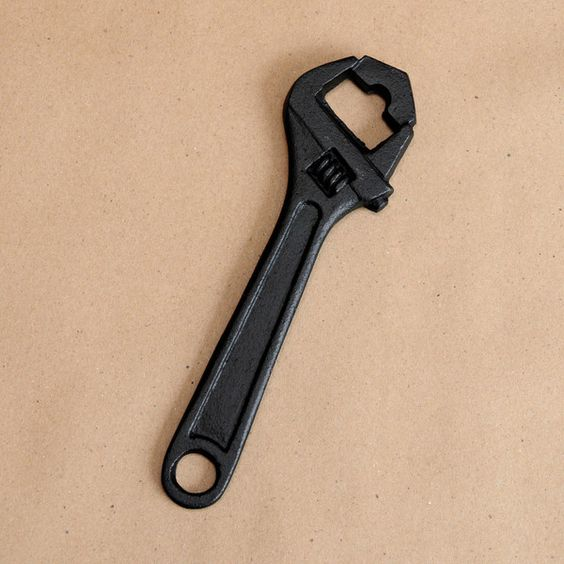bottleopener: (161, 56, 418, 510)
